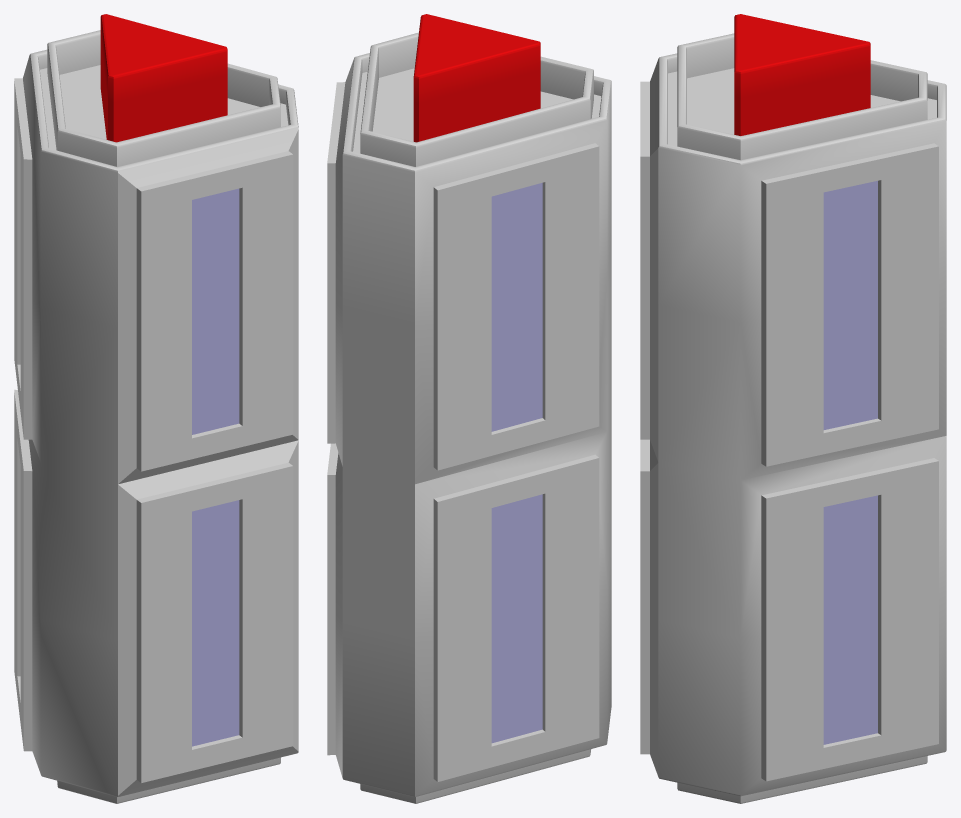
Rendered from Button.fbx.
3 renders of one model, left to right at view 1: azimuth 30°, elevation 25°; view 2: azimuth 150°, elevation 25°; view 3: azimuth 270°, elevation 25°, orthographic.
Visible parts, largest first — view 1: Button.Structure, Press.Active.Button; view 2: Button.Structure, Press.Active.Button; view 3: Button.Structure, Press.Active.Button.
Boxes of the visible parts, x1,y1,x2,y2 form: Button.Structure: (14,30,298,803); Press.Active.Button: (100,14,227,142); Button.Structure: (327,32,611,803); Press.Active.Button: (413,14,540,142); Button.Structure: (640,33,946,803); Press.Active.Button: (734,14,870,135).
Bounding box in the file's own units: 260 × 664 × 260.
